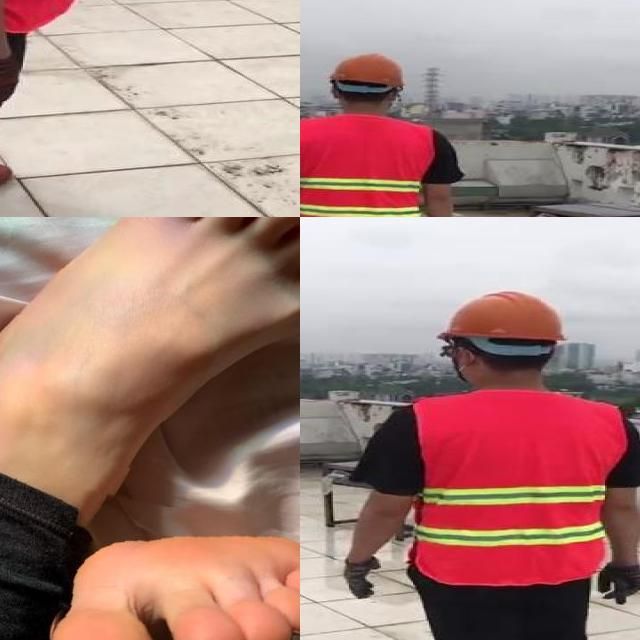Barefoots: (0, 217, 300, 532), (72, 505, 300, 640)
hand_glove: (594, 562, 640, 604), (345, 558, 381, 599), (0, 58, 19, 109)
head_helmet: (430, 286, 570, 346), (326, 49, 409, 86)
person: (331, 279, 640, 640), (300, 49, 467, 217), (0, 0, 97, 217)
vest: (410, 389, 620, 585), (300, 116, 433, 217)
